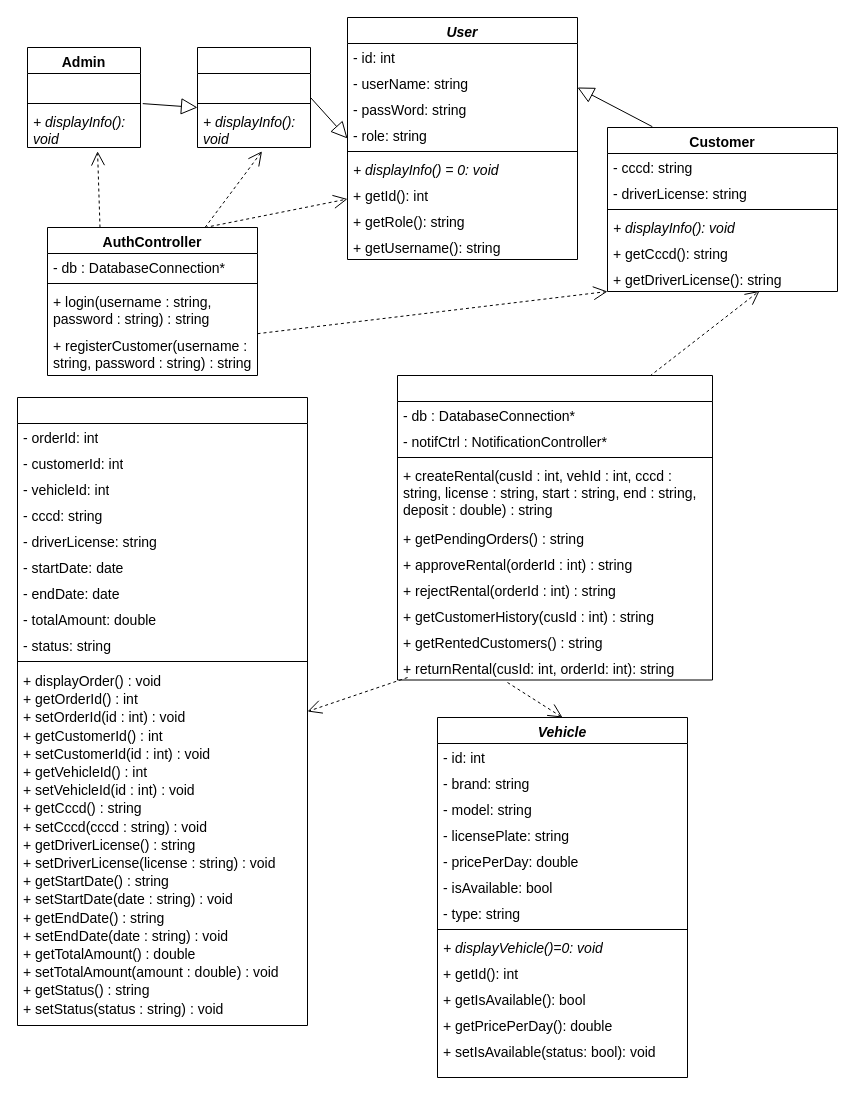
Image size: 855x1098. Some labels were removed from this diagram. The shapes that lost their labels are listed below. From the top down, each one's box as (x1, y1, x2, y2) in pixels, then its label:
(196, 46, 310, 148): Manager
(396, 374, 712, 680): RentalController
(16, 396, 308, 1026): RentalOrder
